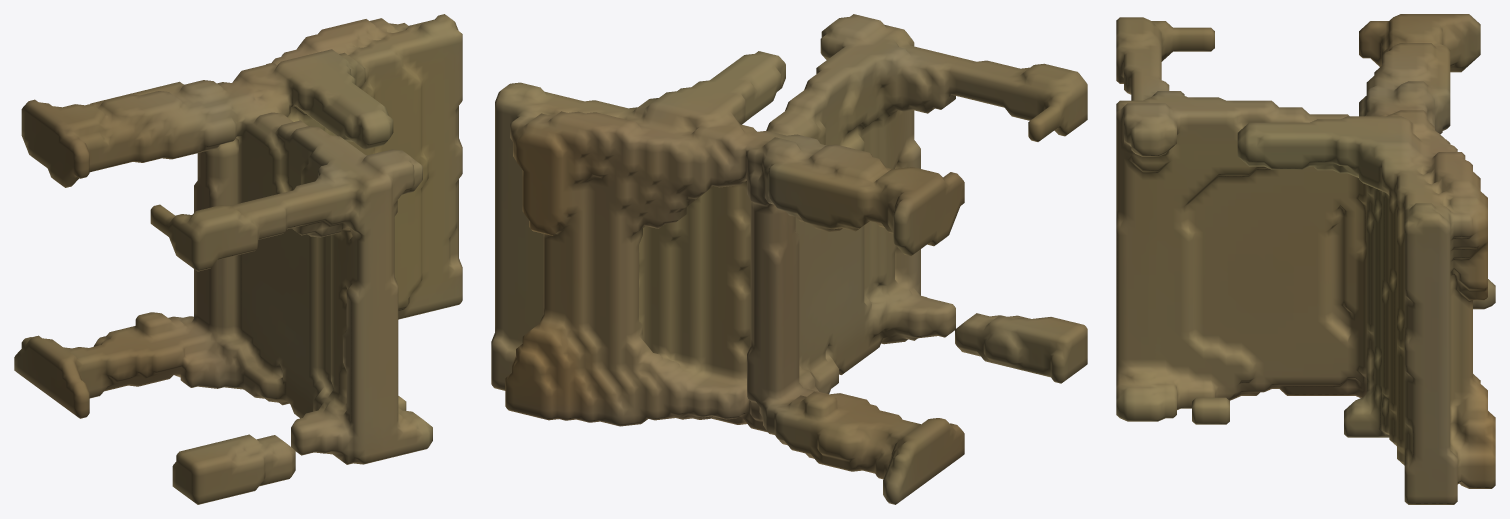
File: Classic four-legged chair with slanted backrest an.glb
The picture shows the model from 3 angles, left to right: view 1: azimuth 30°, elevation 25°; view 2: azimuth 150°, elevation 25°; view 3: azimuth 270°, elevation 25°; orthographic projection. The views are drawn at different scales.
Visible parts, largest first — view 1: Classic four-legged chair with slanted backrest an; view 2: Classic four-legged chair with slanted backrest an; view 3: Classic four-legged chair with slanted backrest an.
Part boxes in pixels (box(x1,y1,x2,y2)): Classic four-legged chair with slanted backrest an: box(14, 14, 462, 504); Classic four-legged chair with slanted backrest an: box(491, 14, 1087, 504); Classic four-legged chair with slanted backrest an: box(1116, 14, 1495, 504).
Bounding box in the file's own units: 64 × 43 × 50.
